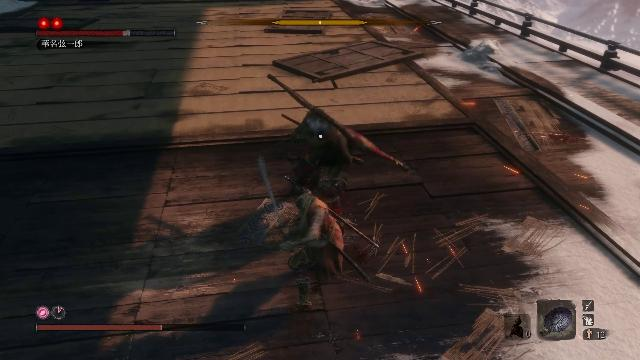sk: (273, 180, 350, 308)
